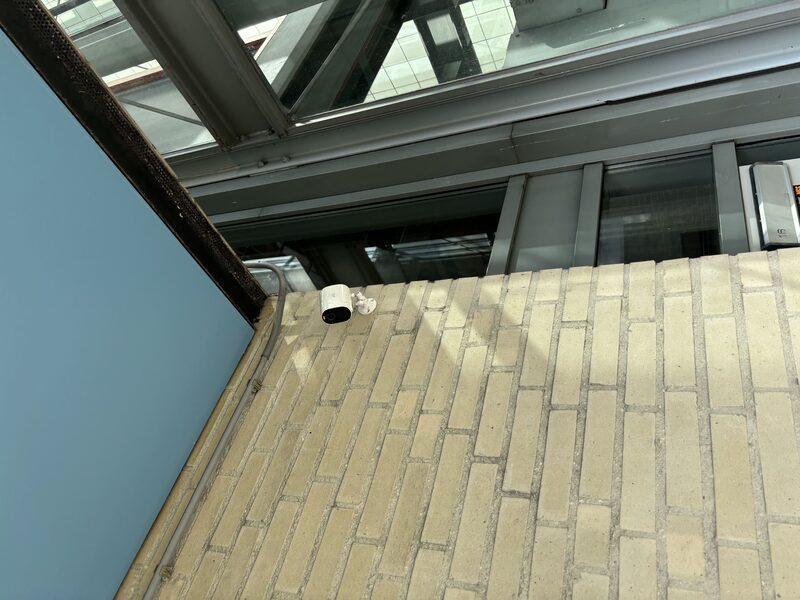bullet: (269, 308, 321, 377)
